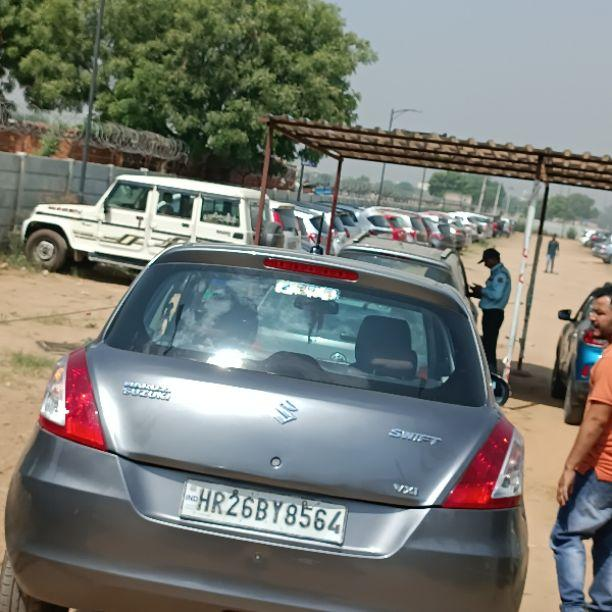license_plate: (177, 477, 348, 546)
